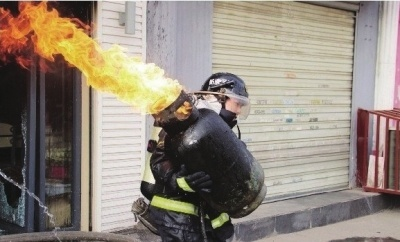fire: (0, 0, 189, 117)
